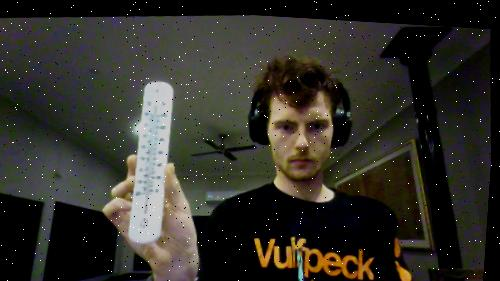thermo: (127, 79, 178, 246)
